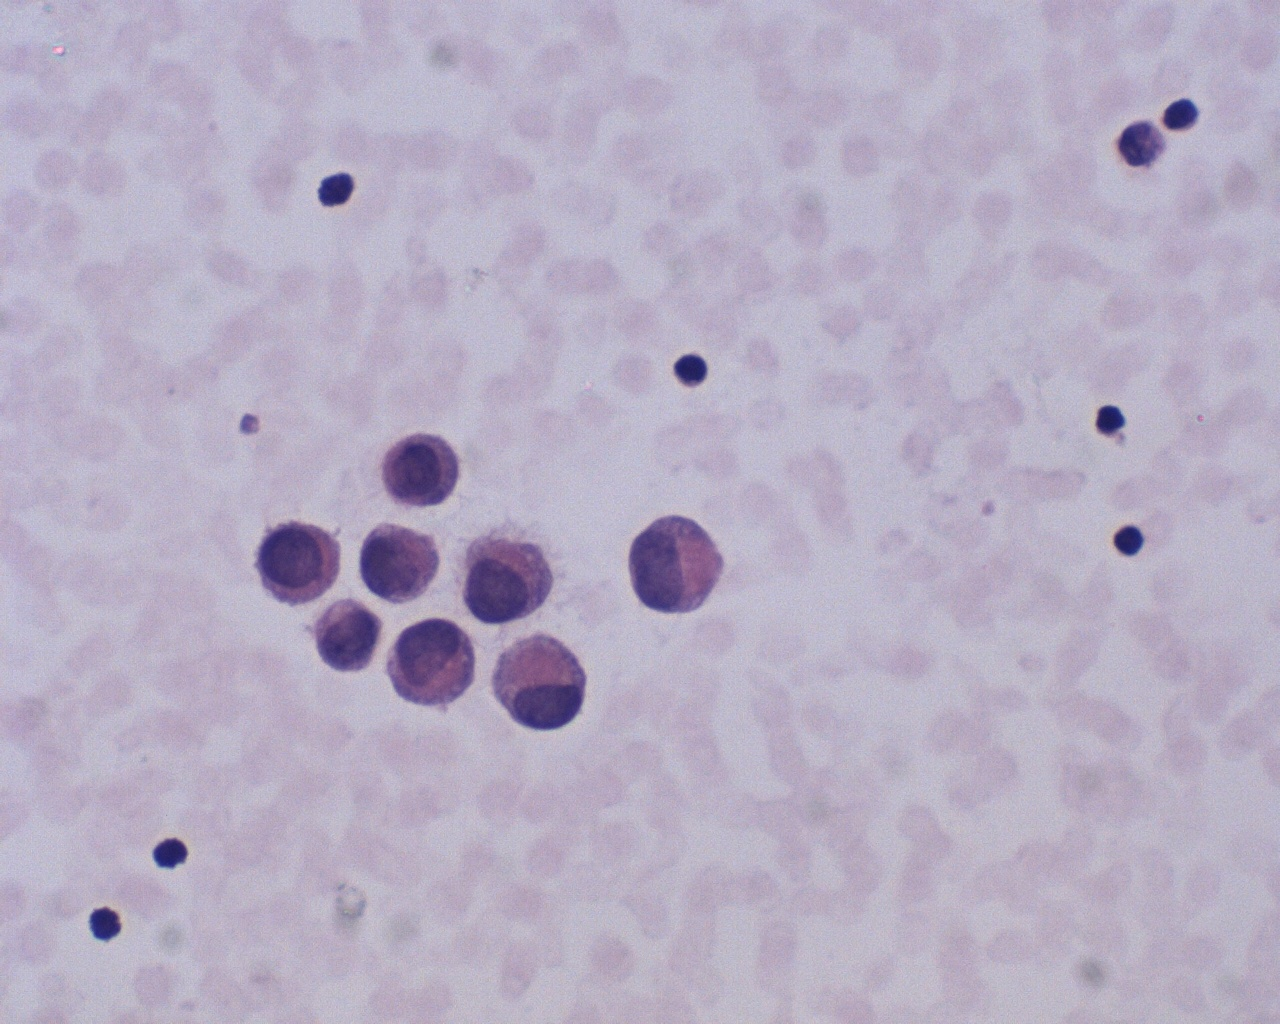ab: (618, 507, 742, 619), (459, 528, 582, 631), (482, 636, 591, 740), (345, 517, 449, 608), (249, 517, 349, 609), (383, 615, 478, 707), (378, 423, 466, 512), (307, 594, 390, 675)
lymph: (667, 341, 717, 392), (1102, 518, 1149, 565)
